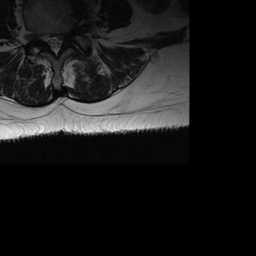CCS_normal: (51, 30, 59, 60)
LFS_severe_stenosis: (65, 27, 73, 45)
LLS_stenosis: (58, 29, 65, 48)
RFS_stenosis: (36, 29, 44, 45)
RLS_stenosis: (44, 30, 51, 50)
